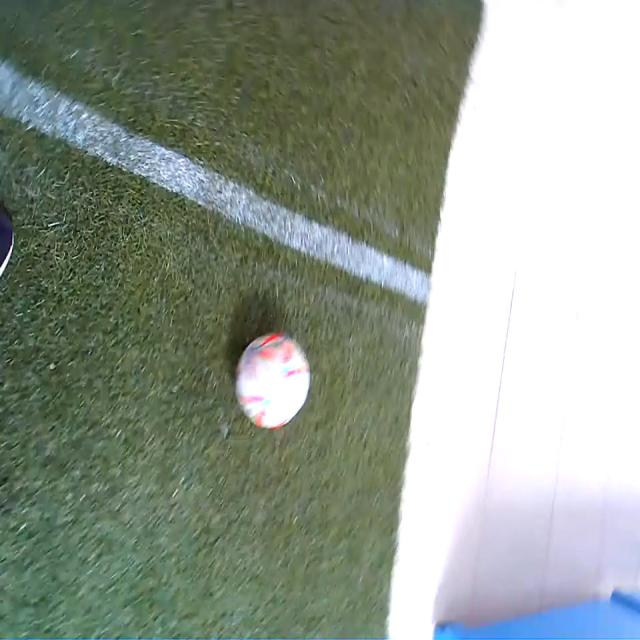ball: (236, 334, 309, 426)
